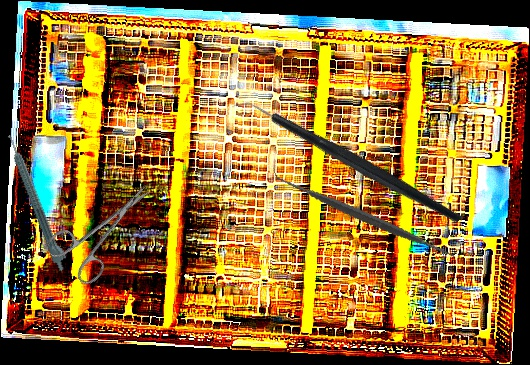Chopper: (227, 37, 466, 289)
Handpiece: (5, 131, 72, 273)
Iris Scissors: (42, 166, 171, 292)
Spatula Surgical: (273, 127, 457, 306)
